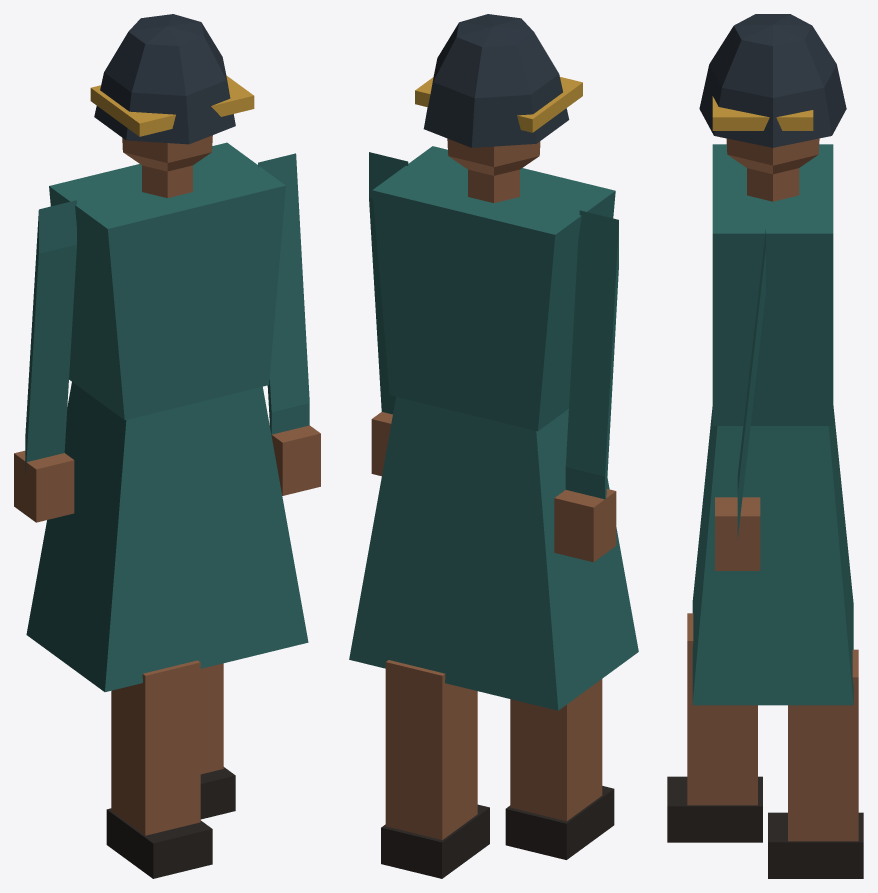
File: life_person_d.glb
3 views of the same model, side by side, from view 1: azimuth 30°, elevation 25°; view 2: azimuth 150°, elevation 25°; view 3: azimuth 270°, elevation 25° (orthographic). The views are drawn at different scales.
Parts seen in each view (by area): view 1: life_person_d; view 2: life_person_d; view 3: life_person_d.
Boxes of the visible parts, x1,y1,x2,y2 form: life_person_d: (14, 14, 320, 878); life_person_d: (349, 14, 638, 878); life_person_d: (667, 14, 863, 878).
Size of the model in its own units: 0.59 by 1.8 by 0.39.
